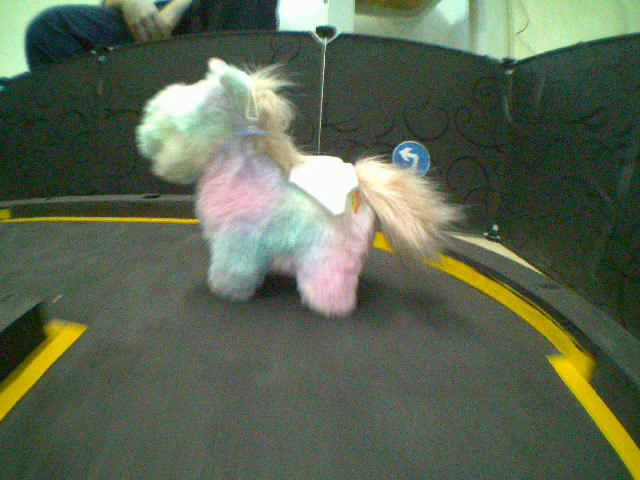unicorn: (129, 55, 443, 319)
